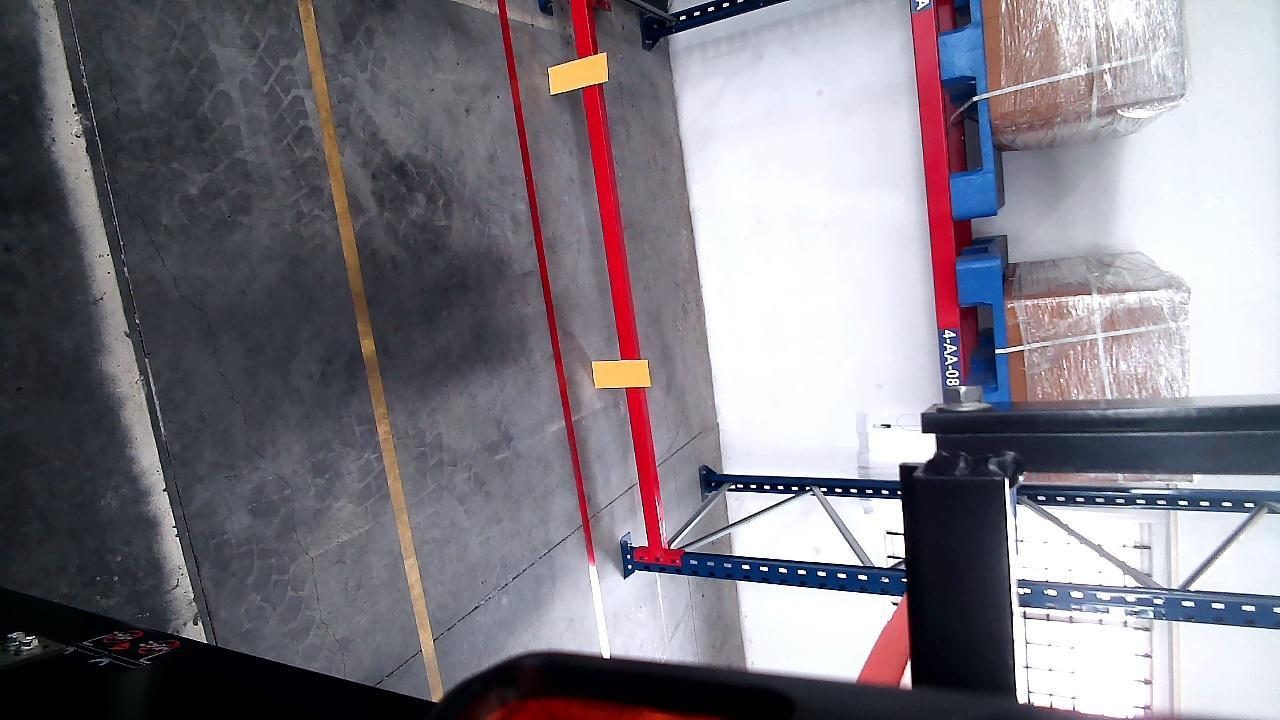yellow_line: (296, 0, 443, 698)
